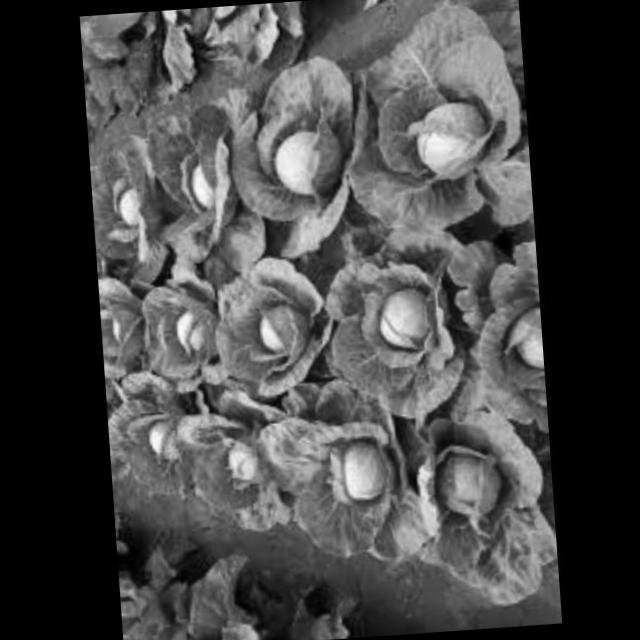cabbage: (402, 80, 502, 192), (260, 110, 343, 214), (426, 436, 516, 531), (352, 281, 436, 368), (311, 432, 395, 516), (160, 143, 233, 232), (88, 148, 150, 244), (144, 292, 217, 372), (242, 293, 316, 370), (126, 409, 193, 473), (493, 296, 542, 376), (201, 428, 262, 492), (98, 291, 144, 350)
